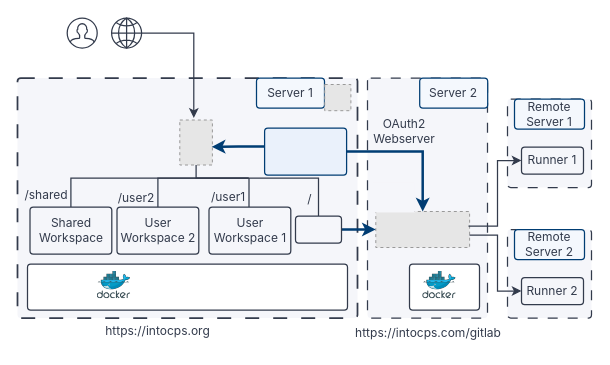
Image size: 610x365. Some labels were removed from this diagram. Grey dashed boxes stand in for pictures. Each missing label, with the box of its shape:
Client: (294, 215, 342, 243)
OAuth2 PKCE: (372, 182, 414, 212)
Traefik Forward-Auth: (264, 127, 347, 175)
WebApp: (110, 17, 142, 48)
